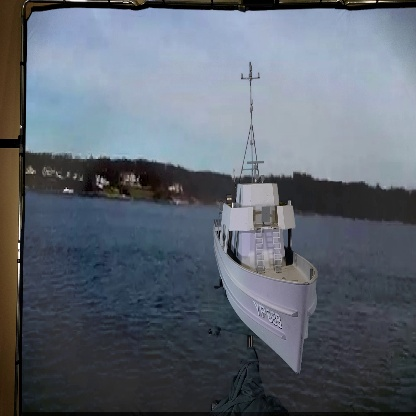YP689: (214, 61, 319, 370)
